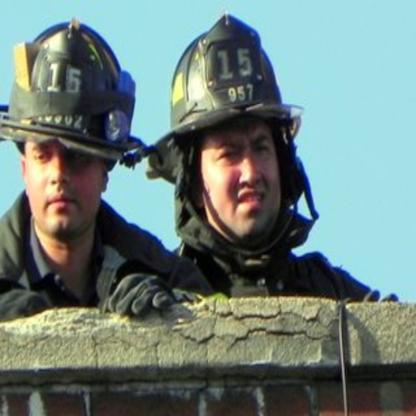Helmet: (150, 23, 308, 246), (0, 15, 144, 161)
